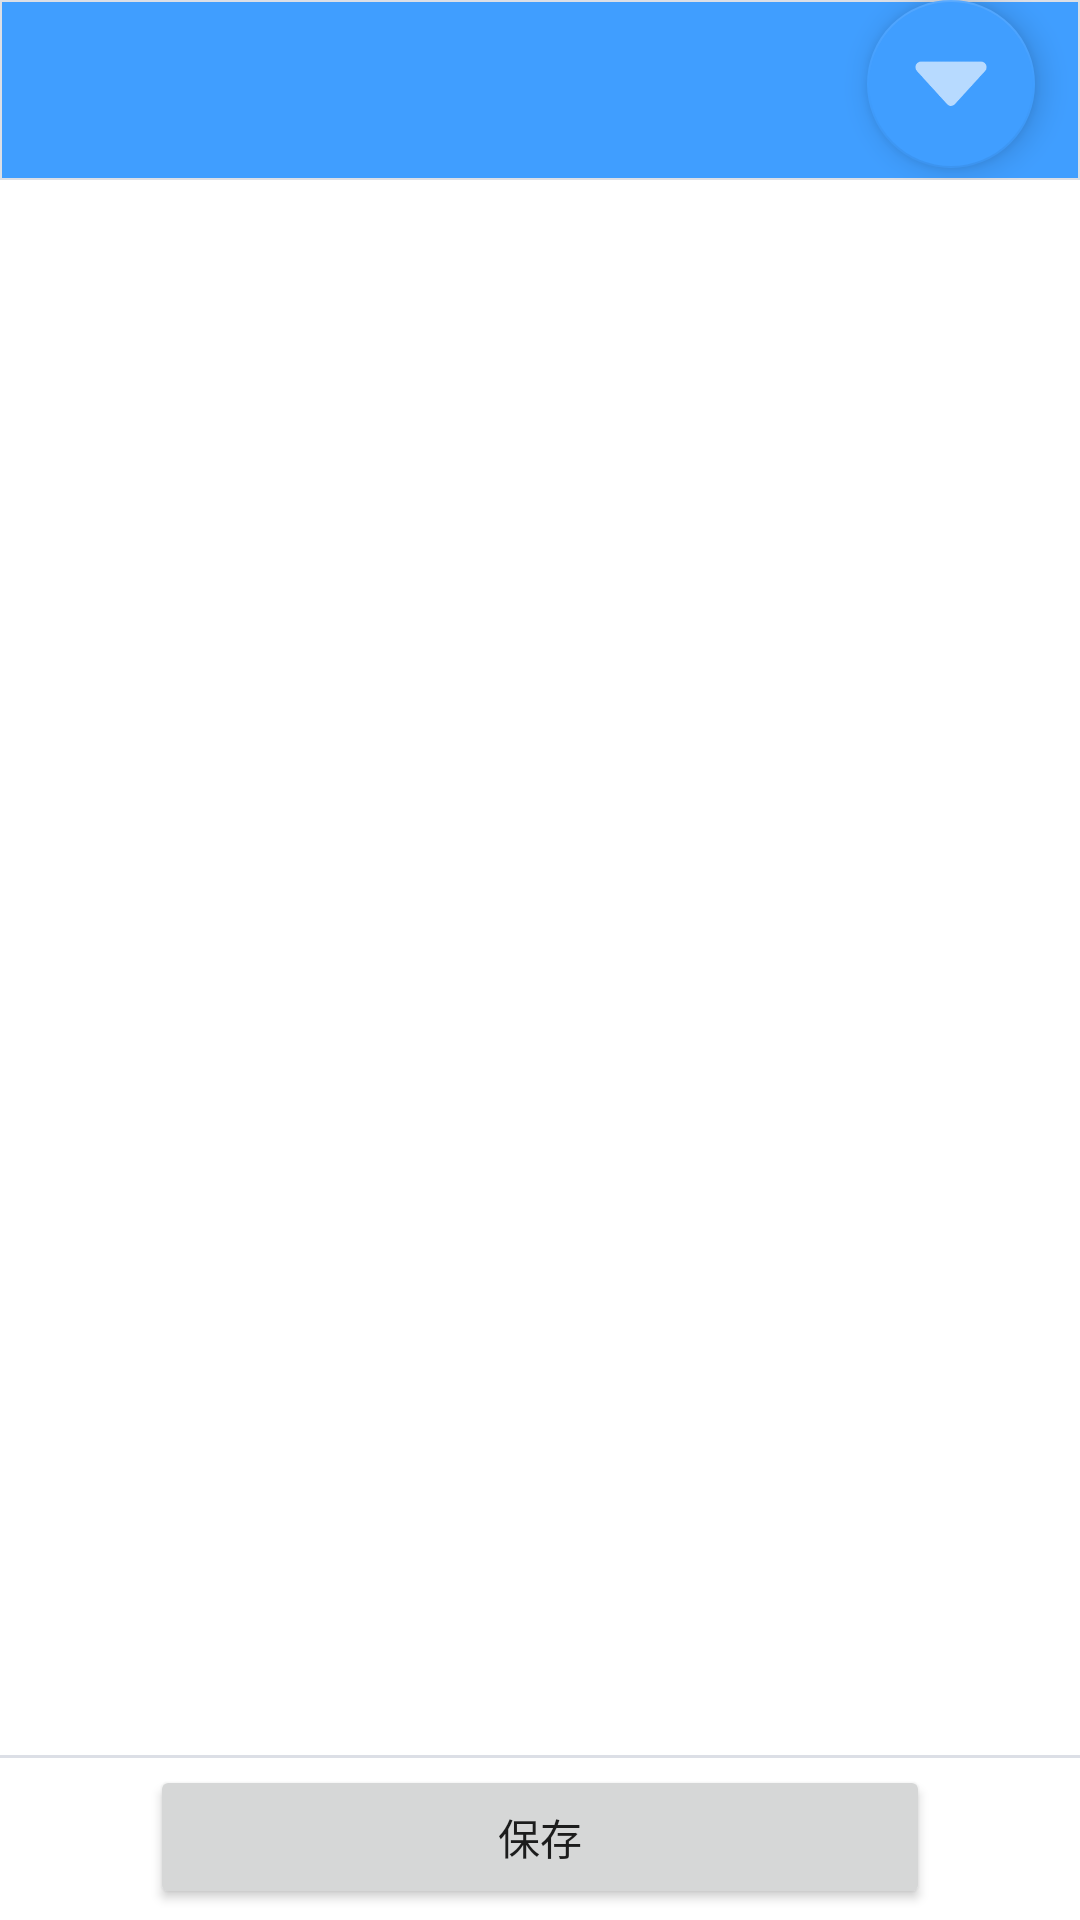

Where icons sit on this 1080 x 1920 app screen, as BBox(x1, y1, x2, y2):
down: BBox(915, 3, 1035, 168)
